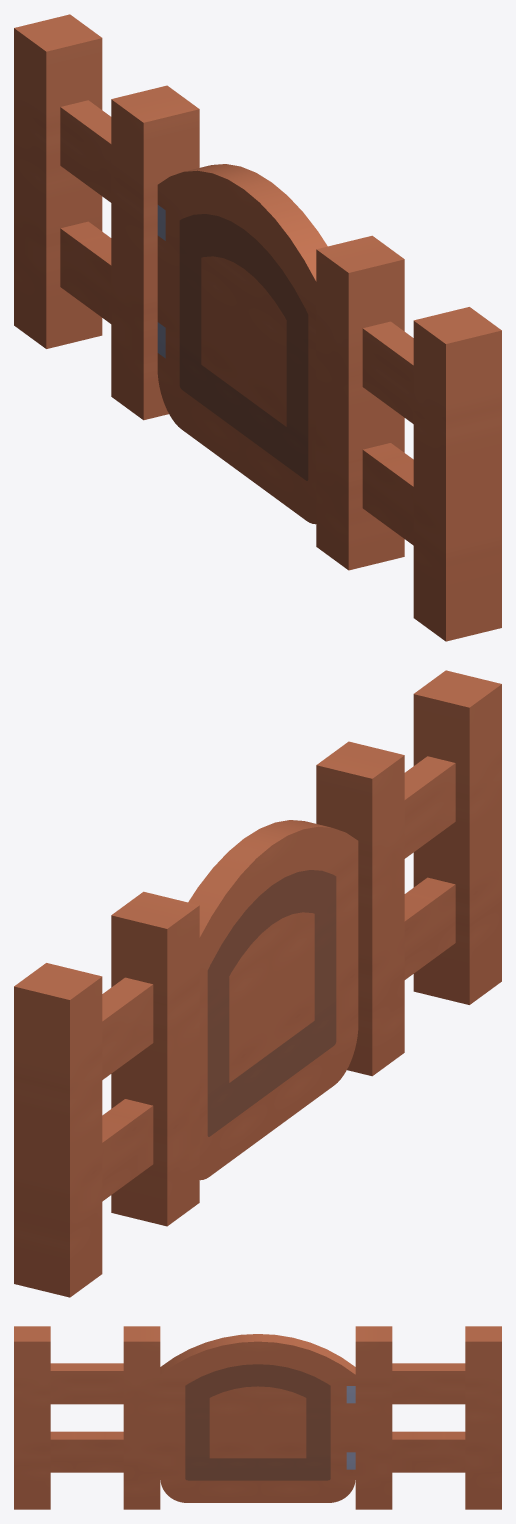
The model's file is fenceGate.fbx.
The picture shows the model from 3 angles, top to bottom: view 1: azimuth 30°, elevation 25°; view 2: azimuth 150°, elevation 25°; view 3: azimuth 270°, elevation 25°; orthographic projection. The views are drawn at different scales.
Parts seen in each view (by area): view 1: fenceGate, gate; view 2: fenceGate, gate; view 3: fenceGate, gate.
Part boxes in pixels (left/top/right/bottom): fenceGate: left=14, top=14, right=501, bottom=641; gate: left=157, top=164, right=327, bottom=524; fenceGate: left=14, top=670, right=501, bottom=1297; gate: left=188, top=820, right=358, bottom=1180; fenceGate: left=14, top=1326, right=501, bottom=1509; gate: left=160, top=1334, right=355, bottom=1502.
Size of the model in its own units: 0.075 by 1 by 0.38.
